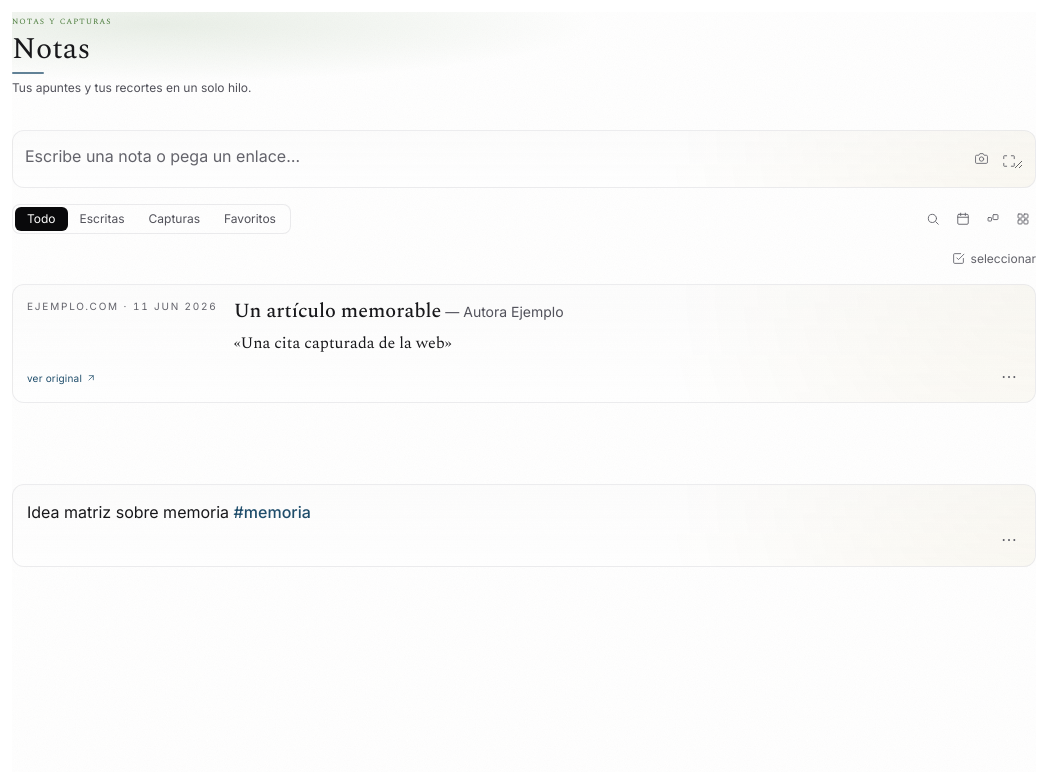
<NotasFeedView /> › el calendario de actividad está oculto por defecto y aparece tras el toggle
This screenshot has width=1048, height=780.
Expected: the text "Idea matriz sobre memoria #memoria" is shown, 27,502 -> 311,522
Click the button named "Mostrar calendario de actividad". click: (963, 218)
box: 950,206 -> 976,232
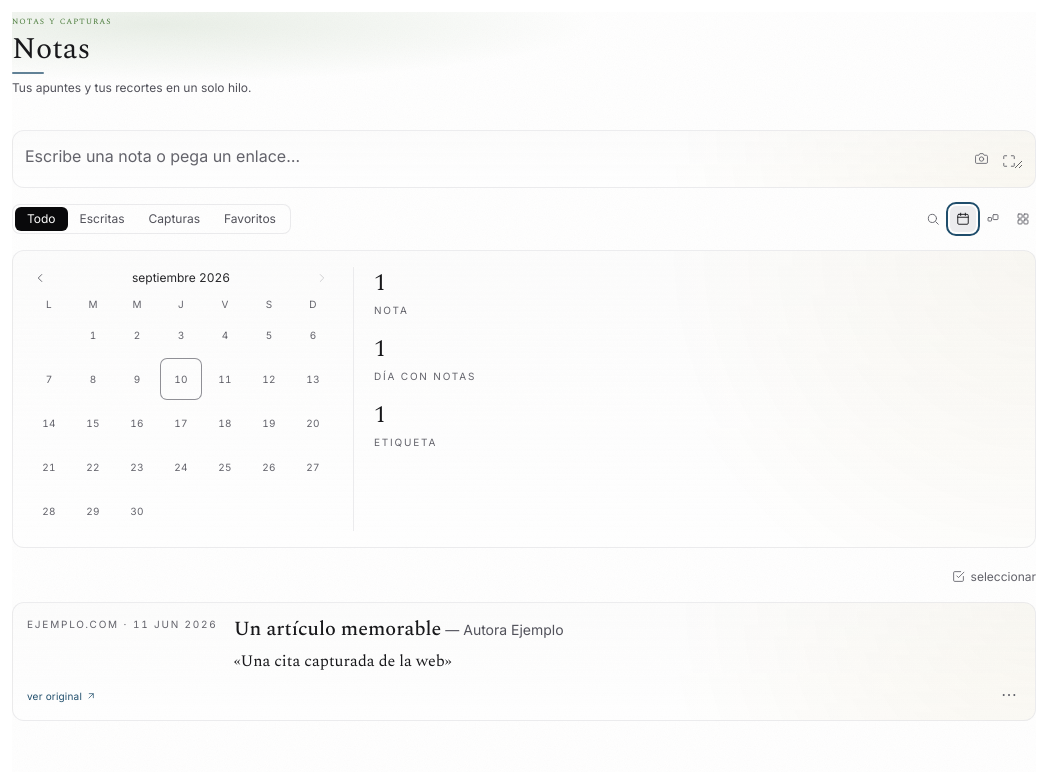
Expected: the button named "Mes anterior" is shown, 29,266 -> 51,288
